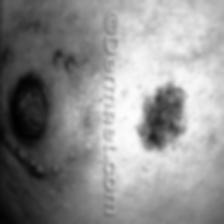Potentially Malignant Skin Tumors: (137, 82, 187, 148)
